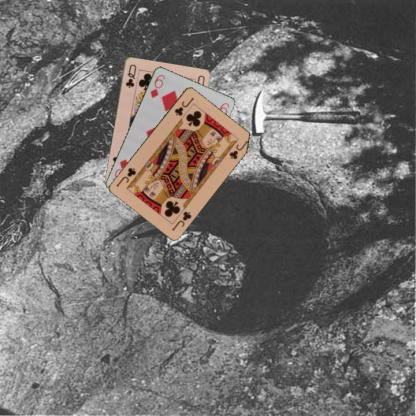6d: (148, 72, 166, 99)
Jc: (169, 209, 192, 232), (172, 95, 194, 117)
Qc: (123, 61, 137, 89)
